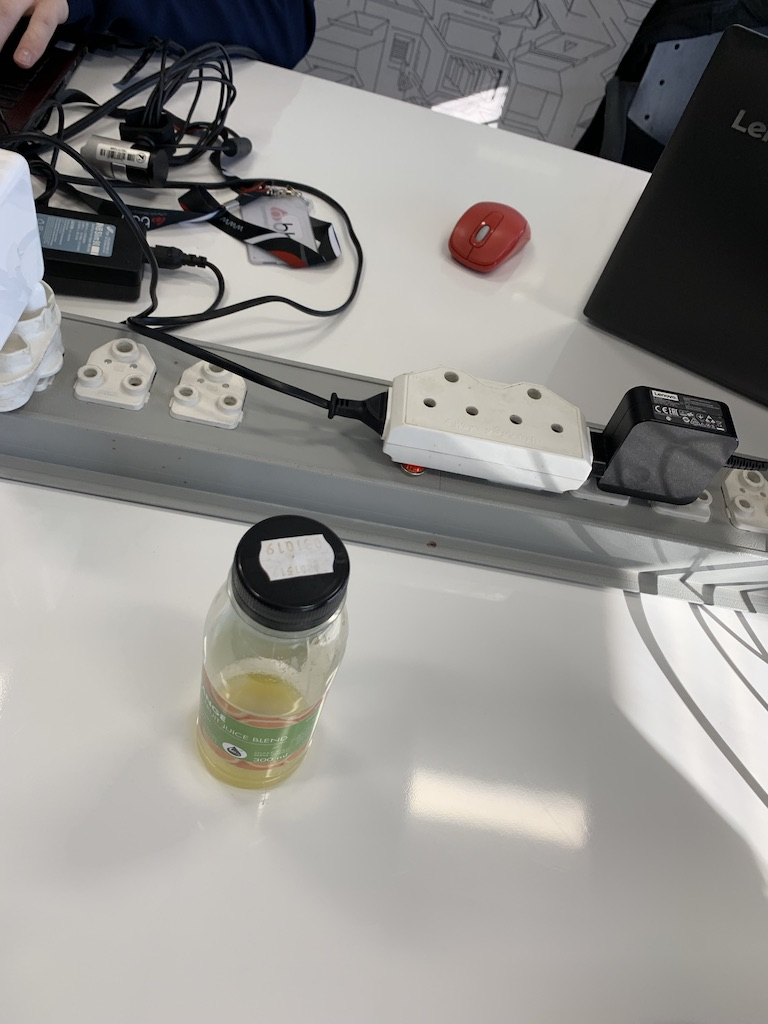bottle: (172, 510, 360, 821)
